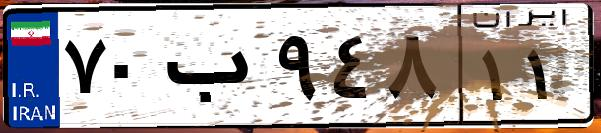0: (110, 28, 158, 98)
1: (475, 38, 525, 113), (525, 38, 570, 115)
4: (330, 28, 385, 110)
7: (57, 26, 110, 100)
8: (385, 28, 445, 110)
9: (270, 28, 330, 110)
ب: (158, 20, 270, 120)
